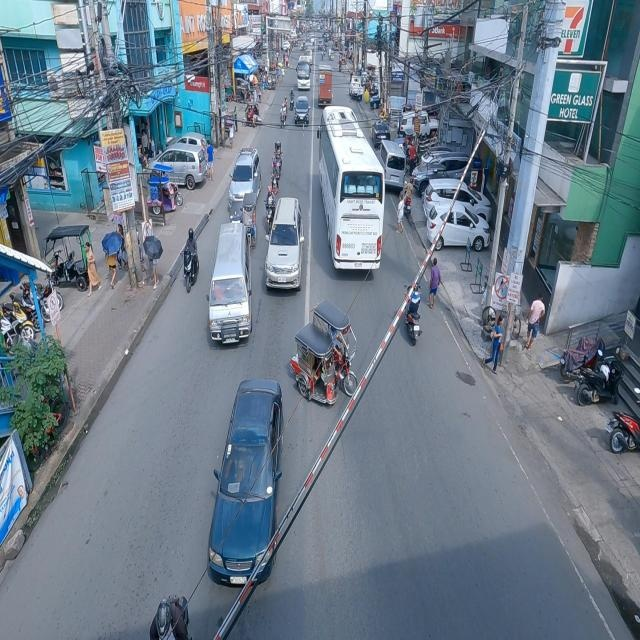Van: (208, 221, 255, 351)
